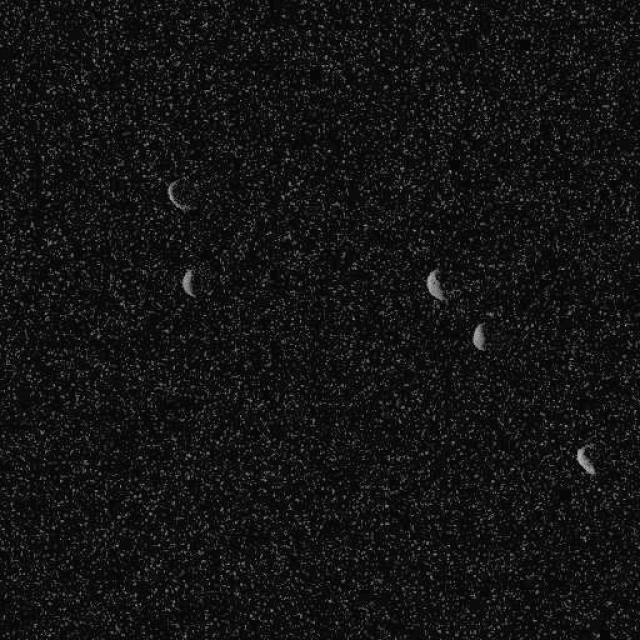D2: (166, 176, 196, 212), (424, 268, 446, 302), (574, 445, 596, 476), (472, 321, 488, 351), (180, 268, 196, 298)
